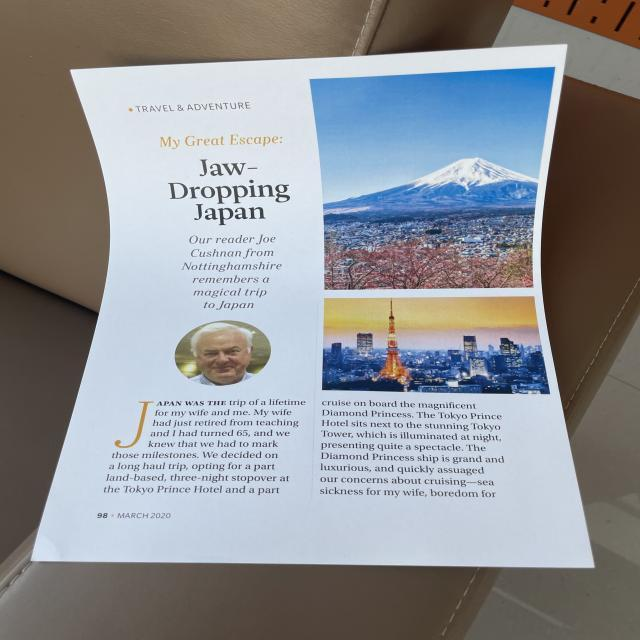document: (33, 46, 592, 568)
